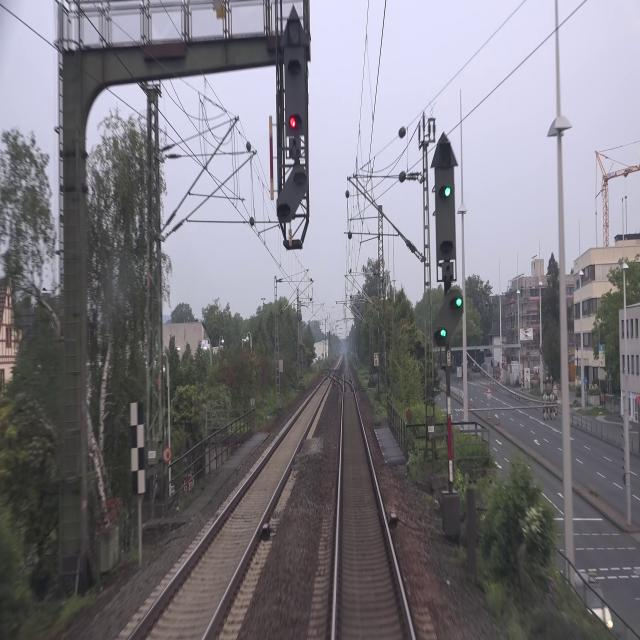rail-track: (133, 378, 328, 639), (336, 384, 411, 639)
